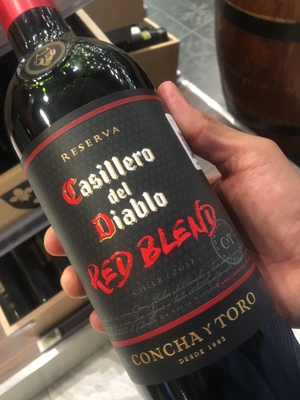casillero del diablo red blend: (10, 22, 281, 385)
